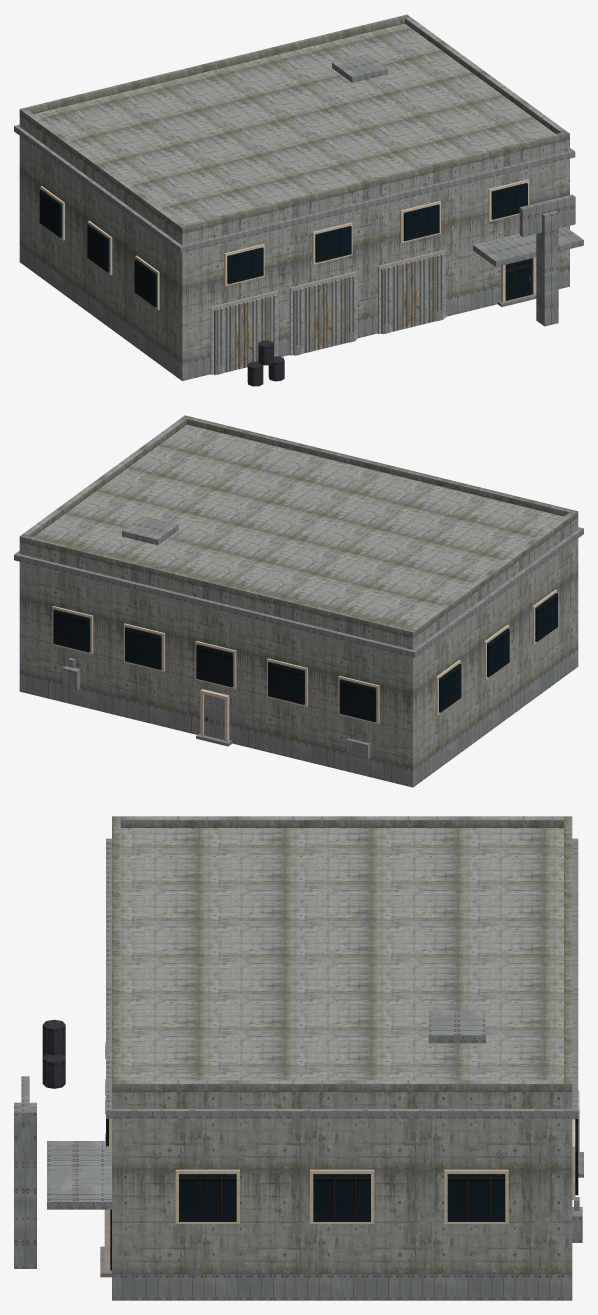
The model's file is ironport-tire-center_lod0.gltf.
The picture shows the model from 3 angles, top to bottom: view 1: azimuth 30°, elevation 25°; view 2: azimuth 150°, elevation 25°; view 3: azimuth 270°, elevation 25°; orthographic projection. The views are drawn at different scales.
Parts seen in each view (by area): view 1: ironport-tire-center_upper, ironport-tire-center_fen_21-corrugated-steel_1, ironport-tire-center_fen_07-glass-curtain-blue_4_t, ironport-tire-center_base, ironport-tire-center__trim_band, ironport-tire-center__parapet_front, ironport-tire-center__parapet_back, ironport-tire-center_fen_04-limestone_3, ironport-tire-center__pylon, ironport-tire-center_fen_15-concrete-boardformed_0, ironport-tire-center__canopy, ironport-tire-center__parapet_left (+3 smaller); view 2: ironport-tire-center_upper, ironport-tire-center_base, ironport-tire-center_fen_07-glass-curtain-blue_4_t, ironport-tire-center__trim_band, ironport-tire-center__parapet_back, ironport-tire-center__parapet_front, ironport-tire-center_fen_04-limestone_3, ironport-tire-center__parapet_left, ironport-tire-center__parapet_right, ironport-tire-center_fen_14-steel-panel_2, ironport-tire-center__hvac; view 3: ironport-tire-center_upper, ironport-tire-center_base, ironport-tire-center_fen_07-glass-curtain-blue_4_t, ironport-tire-center__trim_band, ironport-tire-center__parapet_left, ironport-tire-center__parapet_right, ironport-tire-center__canopy, ironport-tire-center_fen_04-limestone_3, ironport-tire-center__pylon, ironport-tire-center__parapet_front, ironport-tire-center__parapet_back, ironport-tire-center__hvac (+3 smaller).
Part boxes in pixels (x1=…): ironport-tire-center_upper: x1=19, y1=23, x2=569, y2=362; ironport-tire-center_fen_21-corrugated-steel_1: x1=214, y1=254, x2=444, y2=374; ironport-tire-center_fen_07-glass-curtain-blue_4_t: x1=39, y1=183, x2=532, y2=307; ironport-tire-center_base: x1=19, y1=244, x2=569, y2=380; ironport-tire-center__trim_band: x1=14, y1=124, x2=575, y2=253; ironport-tire-center__parapet_front: x1=179, y1=131, x2=569, y2=233; ironport-tire-center__parapet_back: x1=19, y1=14, x2=409, y2=116; ironport-tire-center_fen_04-limestone_3: x1=40, y1=179, x2=536, y2=309; ironport-tire-center__pylon: x1=536, y1=210, x2=558, y2=326; ironport-tire-center_fen_15-concrete-boardformed_0: x1=210, y1=250, x2=445, y2=374; ironport-tire-center__canopy: x1=473, y1=226, x2=583, y2=266; ironport-tire-center__parapet_left: x1=22, y1=110, x2=183, y2=230; ironport-tire-center_upper: x1=19, y1=424, x2=578, y2=768; ironport-tire-center_base: x1=19, y1=648, x2=578, y2=787; ironport-tire-center_fen_07-glass-curtain-blue_4_t: x1=53, y1=593, x2=557, y2=722; ironport-tire-center__trim_band: x1=14, y1=527, x2=583, y2=657; ironport-tire-center__parapet_back: x1=19, y1=534, x2=416, y2=637; ironport-tire-center__parapet_front: x1=182, y1=415, x2=578, y2=518; ironport-tire-center_fen_04-limestone_3: x1=52, y1=589, x2=557, y2=741; ironport-tire-center__parapet_left: x1=411, y1=512, x2=575, y2=635; ironport-tire-center__parapet_right: x1=23, y1=417, x2=186, y2=536; ironport-tire-center_fen_14-steel-panel_2: x1=62, y1=657, x2=370, y2=759; ironport-tire-center__hvac: x1=122, y1=516, x2=178, y2=545; ironport-tire-center_upper: x1=112, y1=828, x2=572, y2=1274; ironport-tire-center_base: x1=112, y1=1274, x2=572, y2=1300; ironport-tire-center_fen_07-glass-curtain-blue_4_t: x1=106, y1=1119, x2=578, y2=1270; ironport-tire-center__trim_band: x1=106, y1=838, x2=578, y2=1118; ironport-tire-center__parapet_left: x1=120, y1=816, x2=563, y2=827; ironport-tire-center__parapet_right: x1=120, y1=1080, x2=563, y2=1091; ironport-tire-center__canopy: x1=47, y1=1141, x2=111, y2=1209; ironport-tire-center_fen_04-limestone_3: x1=104, y1=1091, x2=579, y2=1271; ironport-tire-center__pylon: x1=14, y1=1102, x2=36, y2=1268; ironport-tire-center__parapet_front: x1=112, y1=816, x2=120, y2=1091; ironport-tire-center__parapet_back: x1=564, y1=816, x2=572, y2=1091; ironport-tire-center__hvac: x1=428, y1=1011, x2=485, y2=1043.
Bounding box in the file's own units: 22.4 × 8.3 × 19.8.
